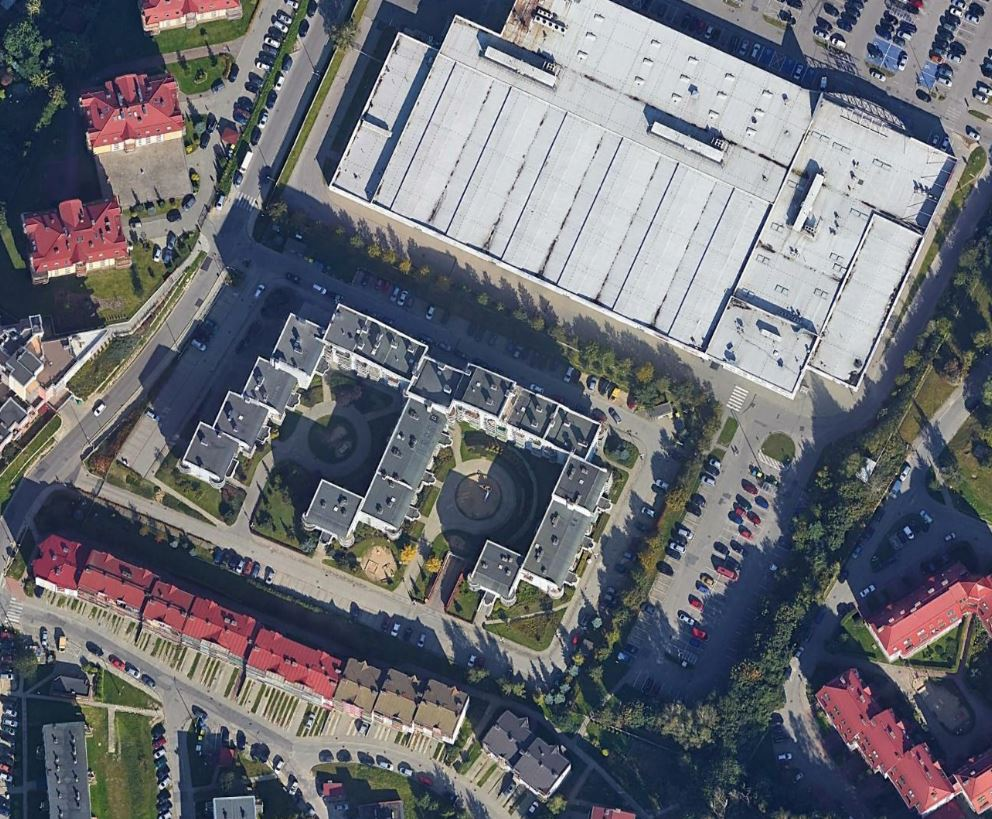block of flats: (164, 301, 615, 605), (820, 549, 990, 819), (11, 183, 139, 288), (71, 60, 189, 161), (1, 301, 53, 473), (36, 717, 100, 819), (132, 1, 247, 40)
shopping_center: (320, 2, 964, 410)
terrace house: (25, 531, 471, 755), (482, 705, 579, 809)
